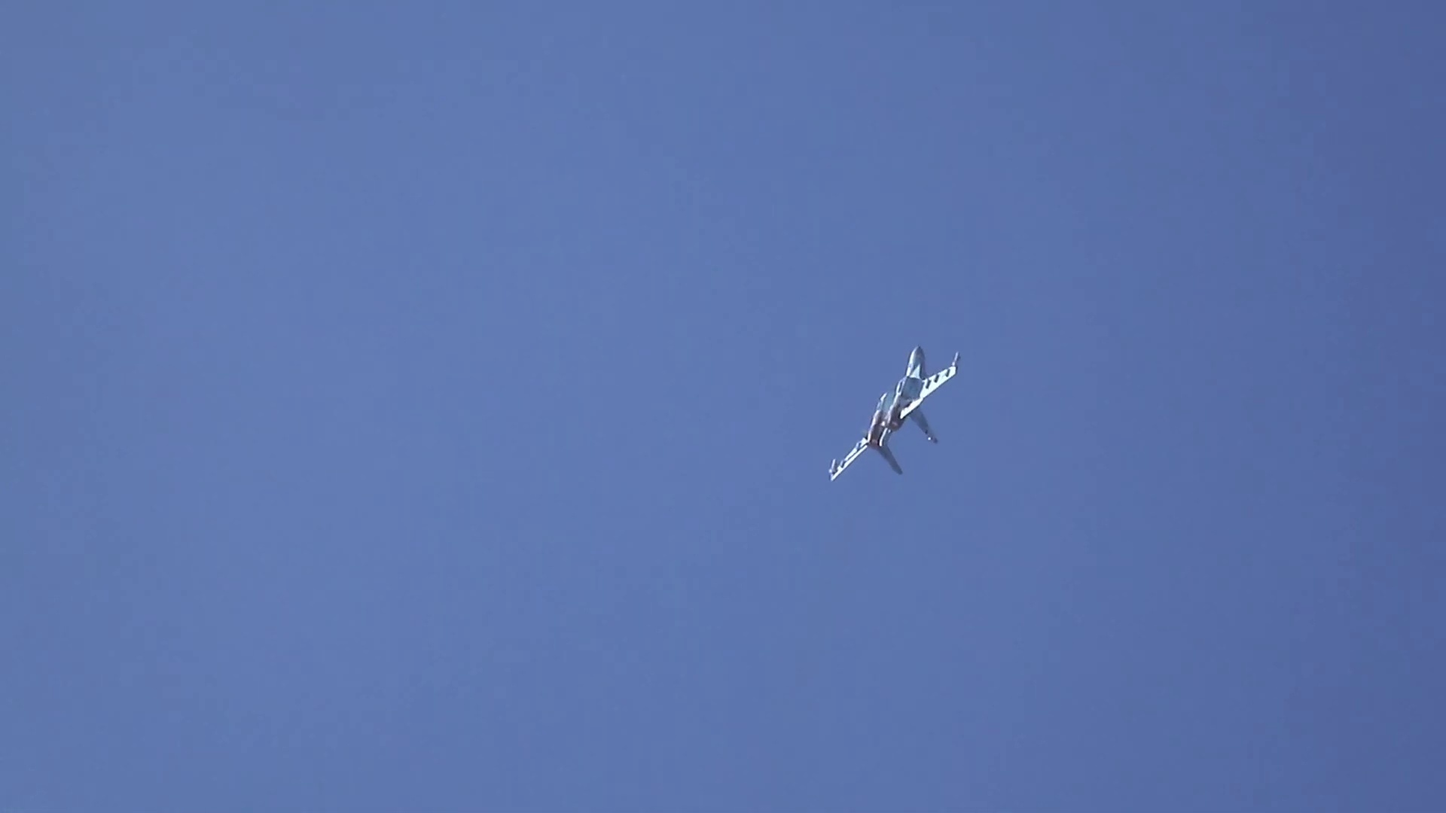Su35: (828, 345, 961, 483)
